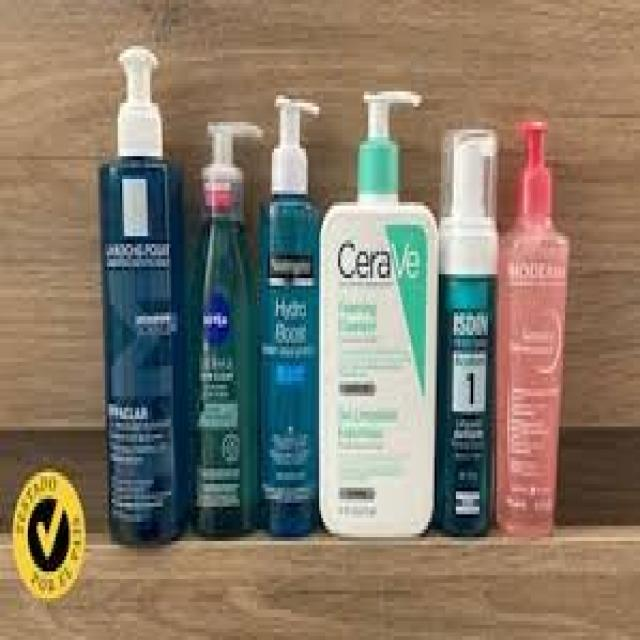Botella: (309, 72, 441, 522)
